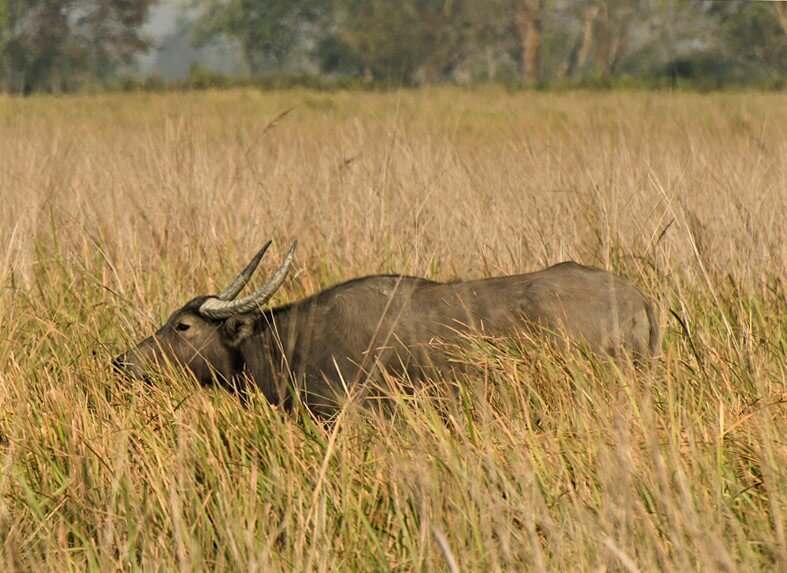buffalo: (102, 234, 658, 459)
